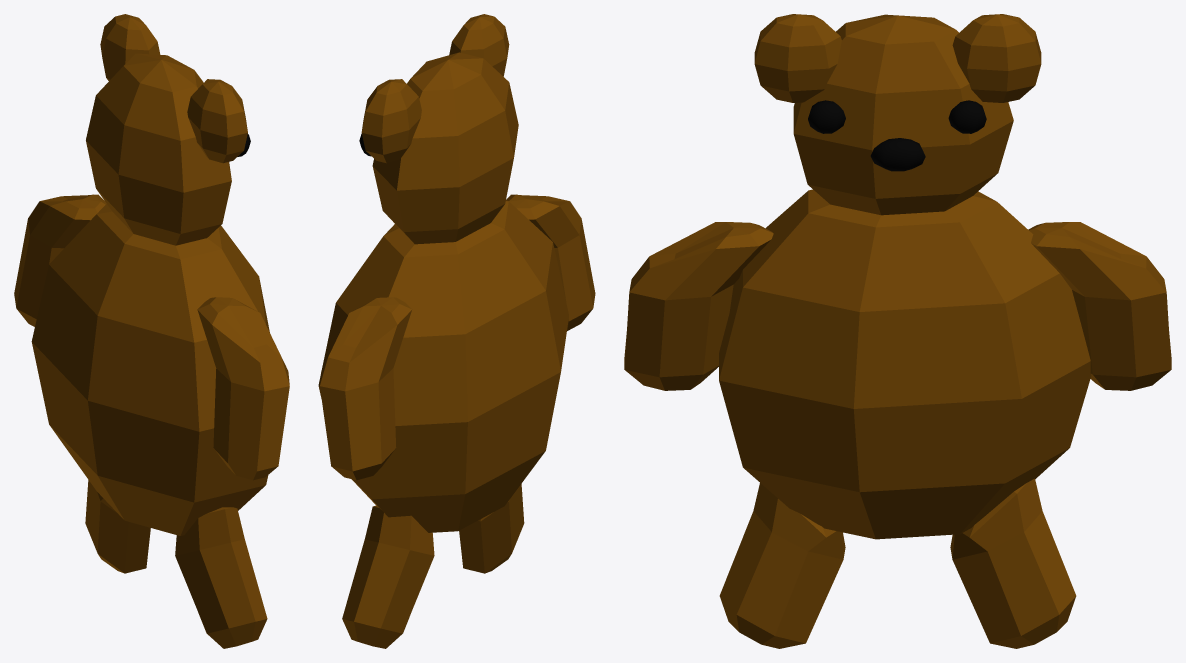
Rendered from bear.glb.
The picture shows the model from 3 angles, left to right: view 1: azimuth 30°, elevation 25°; view 2: azimuth 150°, elevation 25°; view 3: azimuth 270°, elevation 25°; orthographic projection. The views are drawn at different scales.
Visible parts, largest first — view 1: Sphere.009; view 2: Sphere.009; view 3: Sphere.009.
Boxes of the visible parts, x1=… form: Sphere.009: x1=14, y1=14, x2=289, y2=648; Sphere.009: x1=318, y1=14, x2=595, y2=648; Sphere.009: x1=624, y1=14, x2=1171, y2=648.
Bounding box in the file's own units: 0.2506 × 0.7182 × 0.5654.
